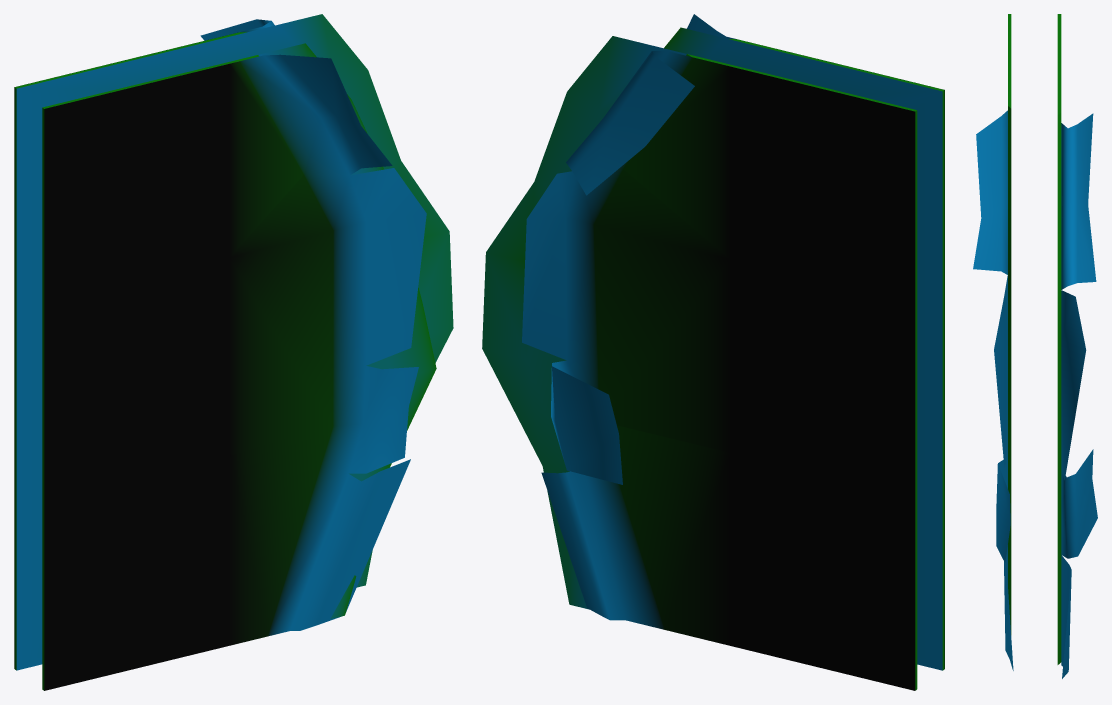
The model's file is DBK_Drywall_Side_C.fbx.
3 renders of one model, left to right at view 1: azimuth 30°, elevation 25°; view 2: azimuth 150°, elevation 25°; view 3: azimuth 270°, elevation 25°, orthographic. The views are drawn at different scales.
Visible parts, largest first — view 1: DBK_Drywall_Side_C; view 2: DBK_Drywall_Side_C; view 3: DBK_Drywall_Side_C.
Boxes of the visible parts, x1=… form: DBK_Drywall_Side_C: x1=14, y1=14, x2=453, y2=690; DBK_Drywall_Side_C: x1=482, y1=14, x2=944, y2=690; DBK_Drywall_Side_C: x1=973, y1=14, x2=1097, y2=678.
Size of what is drawn, in the model's own units: 236 by 301 by 64.89.
